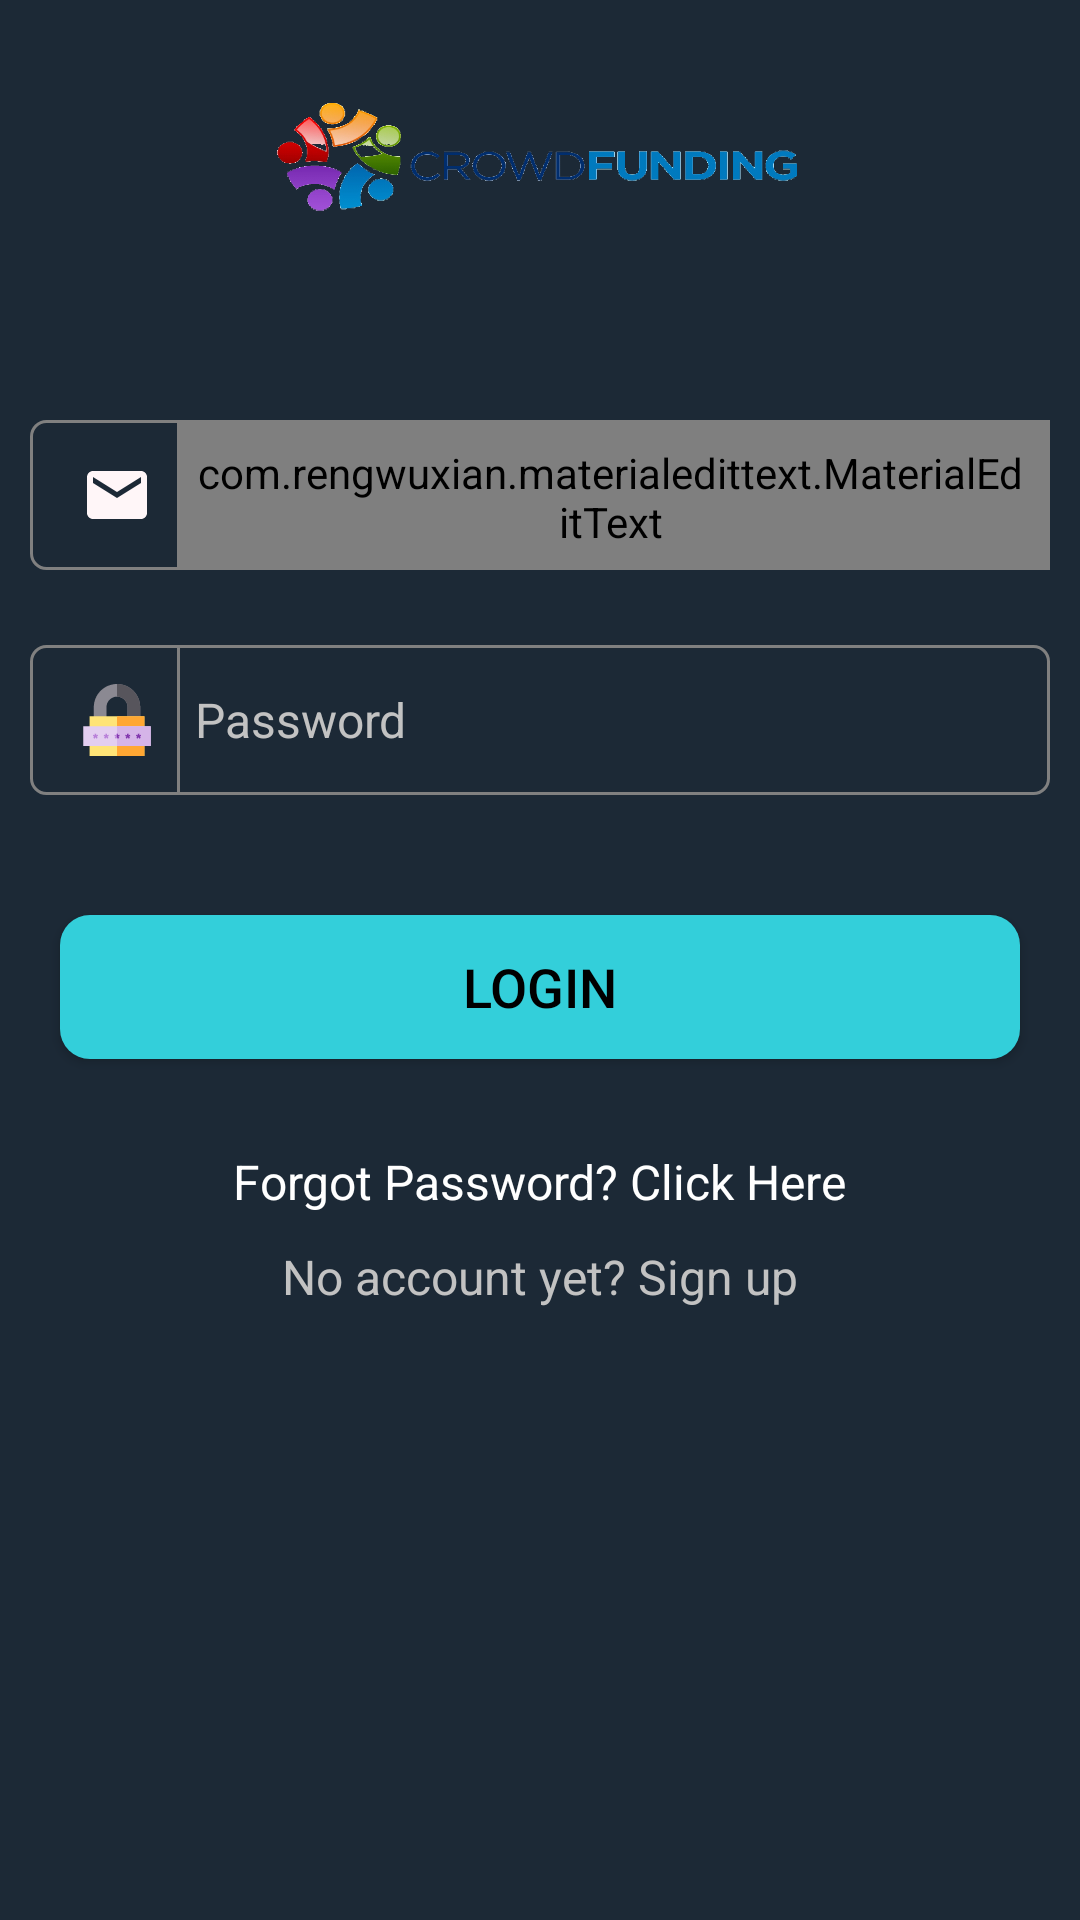

Icon bounding boxes for this 1080 × 1920 phone screenshot, format box(x1, y1, x2, y2):
lock: box(83, 684, 151, 756)
